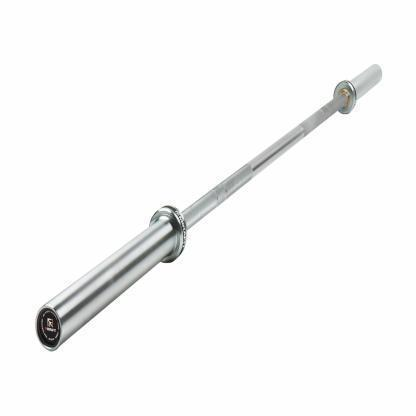Barbell: (34, 295, 67, 370)
